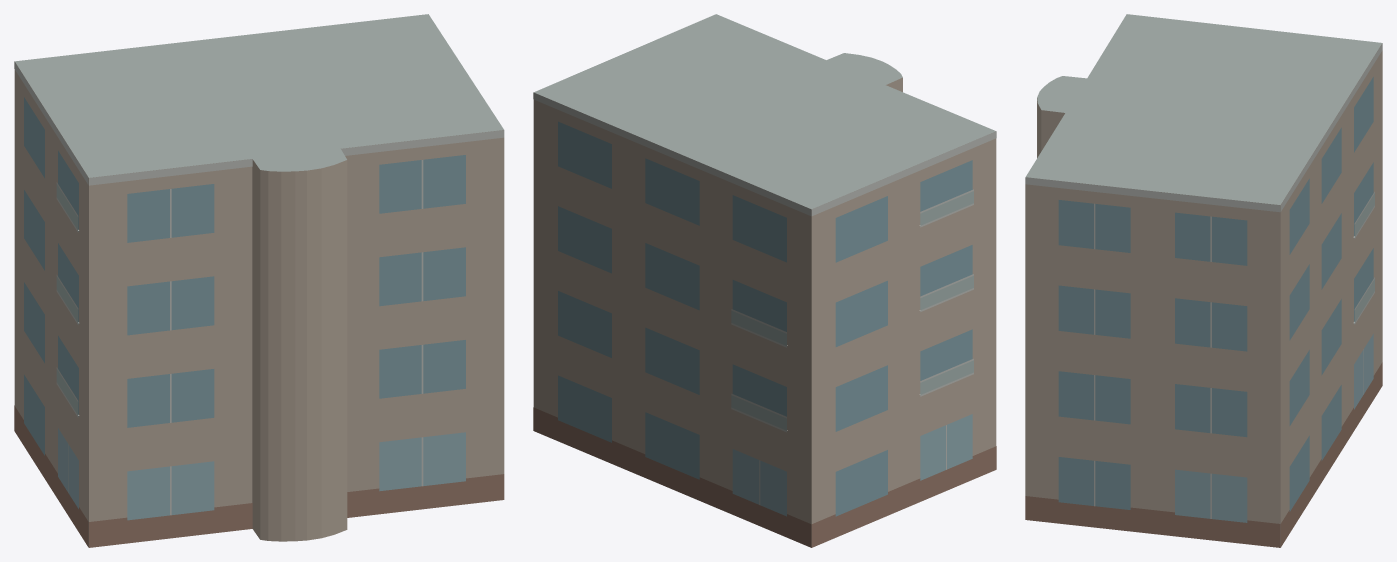
Rendered from survey-upis-32874214.glb.
3 views of the same model, side by side, from view 1: azimuth 30°, elevation 25°; view 2: azimuth 150°, elevation 25°; view 3: azimuth 270°, elevation 25° (orthographic). The views are drawn at different scales.
Parts seen in each view (by area): view 1: survey-upis-32874214.tmp; view 2: survey-upis-32874214.tmp; view 3: survey-upis-32874214.tmp.
Part boxes in pixels (x1,y1,x2,y2): survey-upis-32874214.tmp: (14,14,504,547); survey-upis-32874214.tmp: (533,14,996,547); survey-upis-32874214.tmp: (1025,14,1382,547).
Bounding box in the file's own units: 14 × 11.7 × 11.06.
